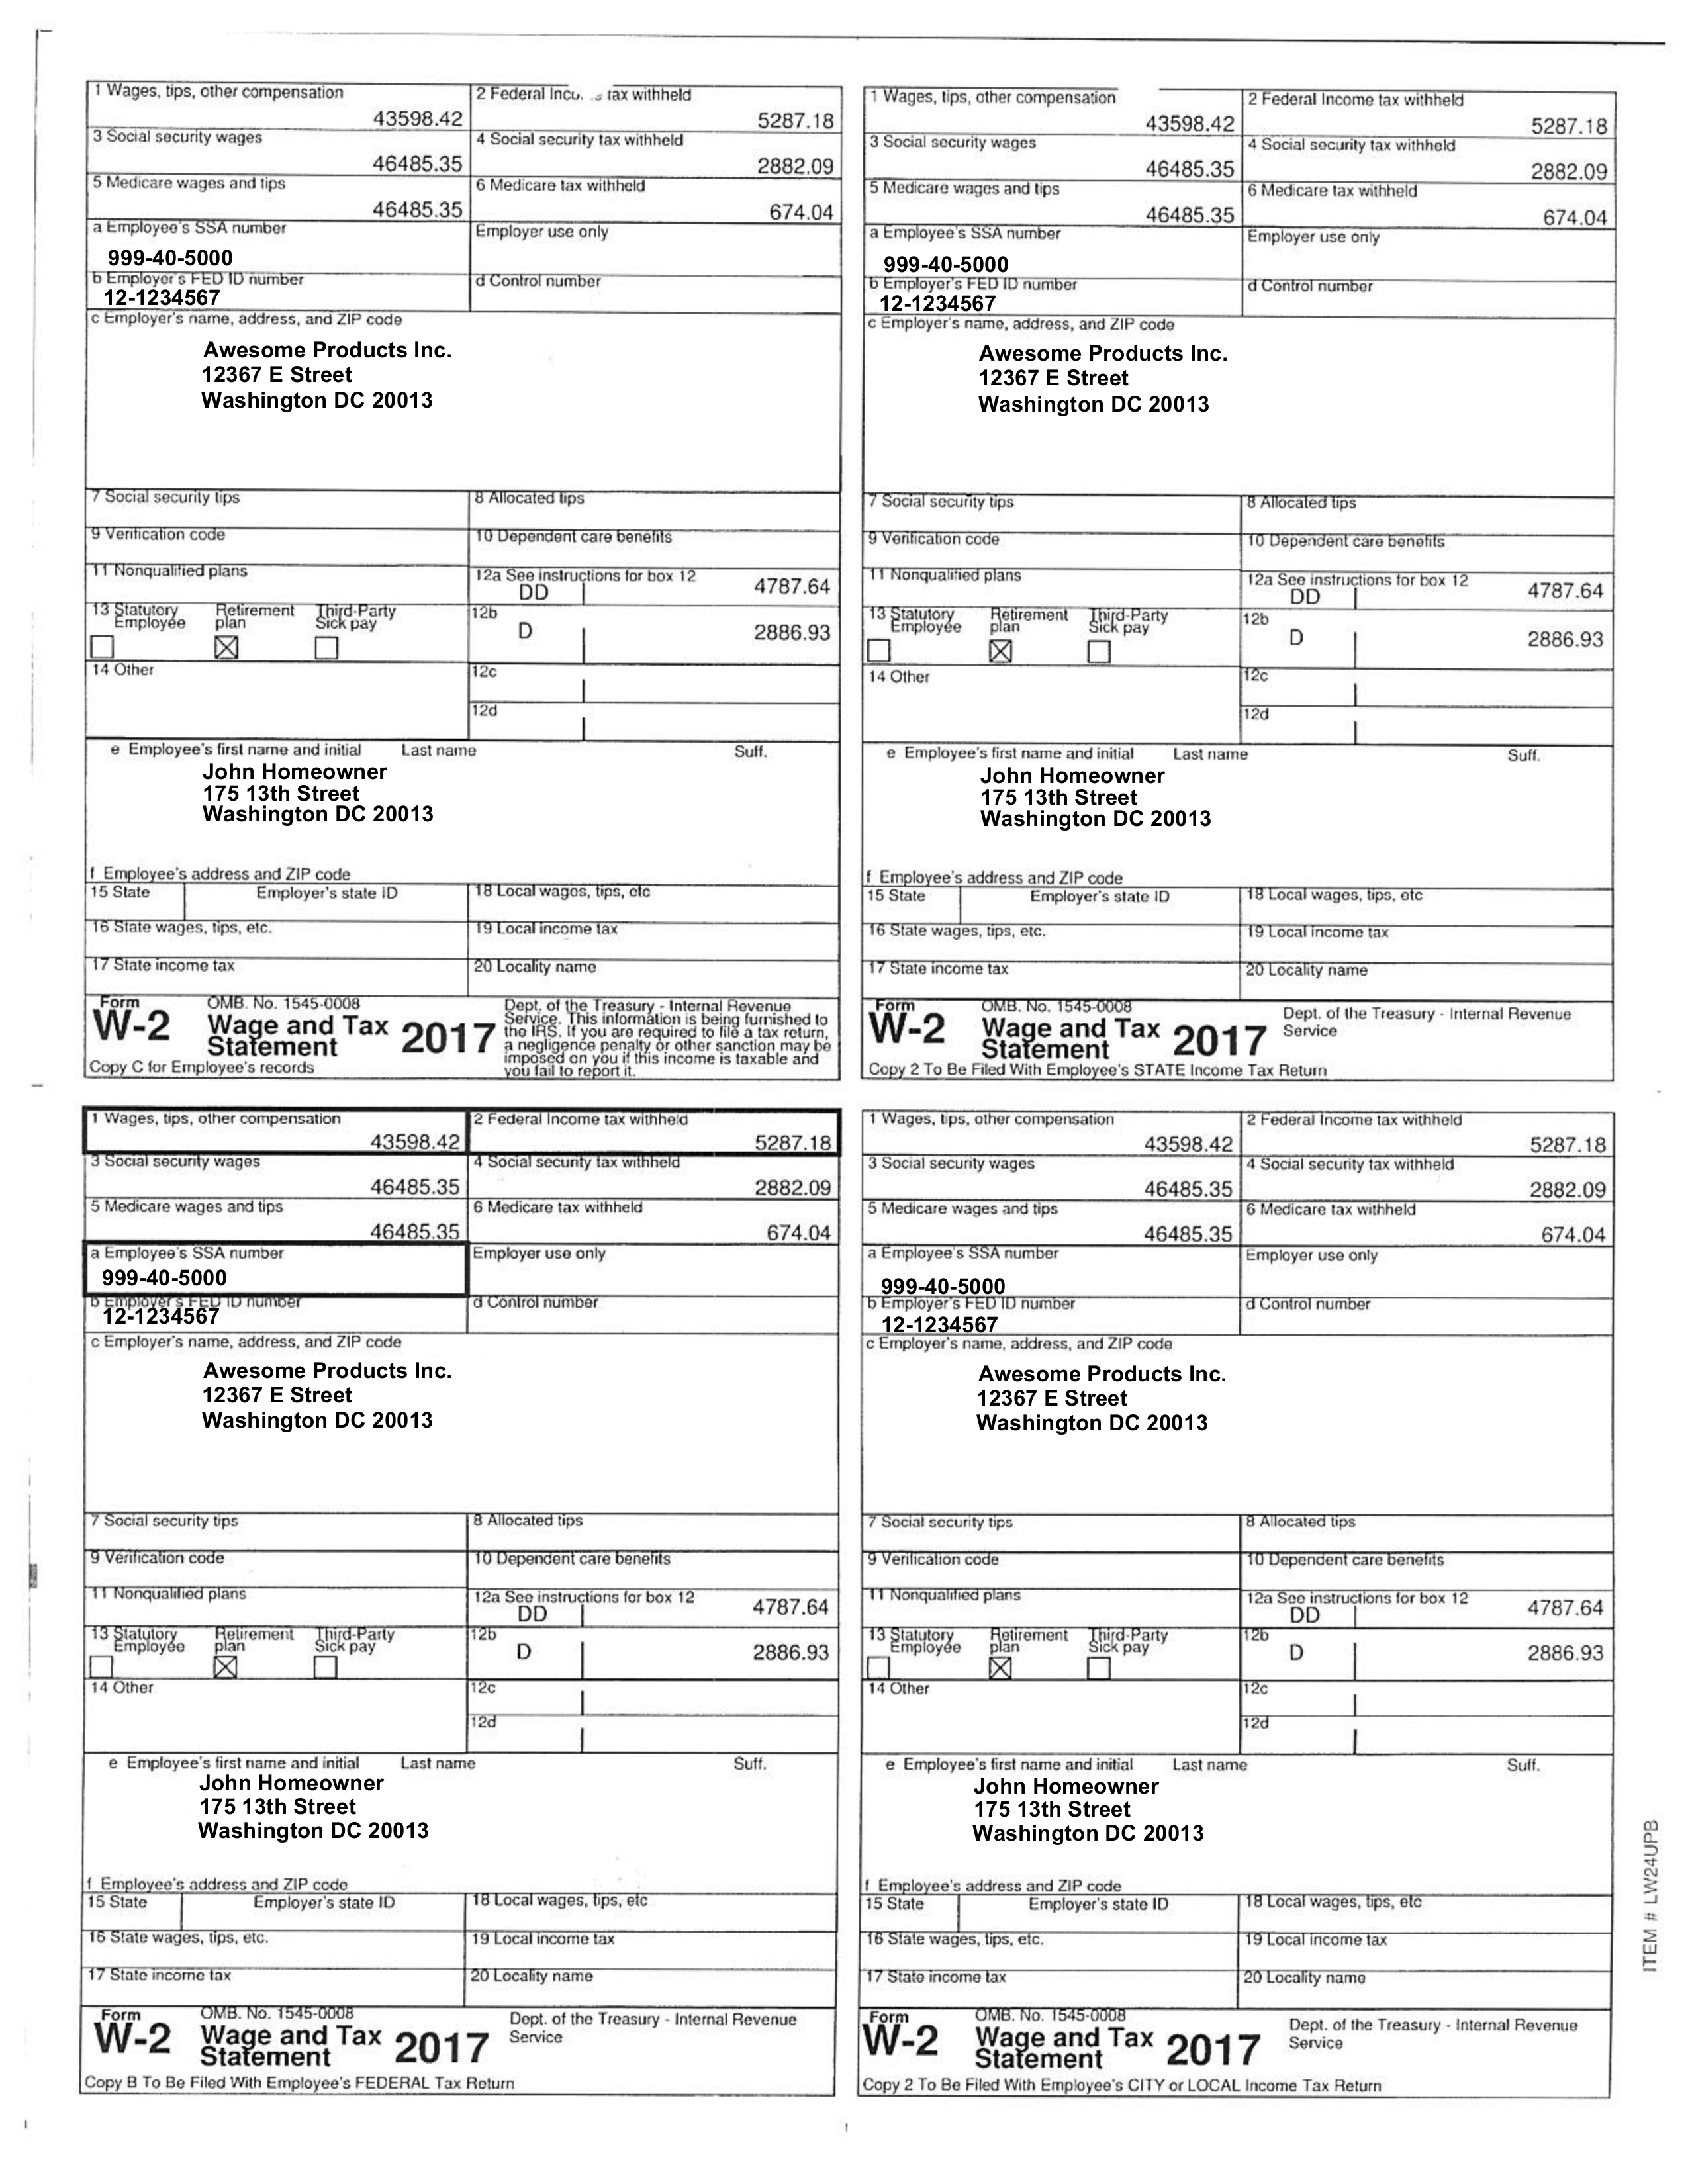table: (862, 82, 1617, 1081), (87, 80, 840, 1080), (80, 1108, 839, 2095), (858, 1110, 1617, 2097)
